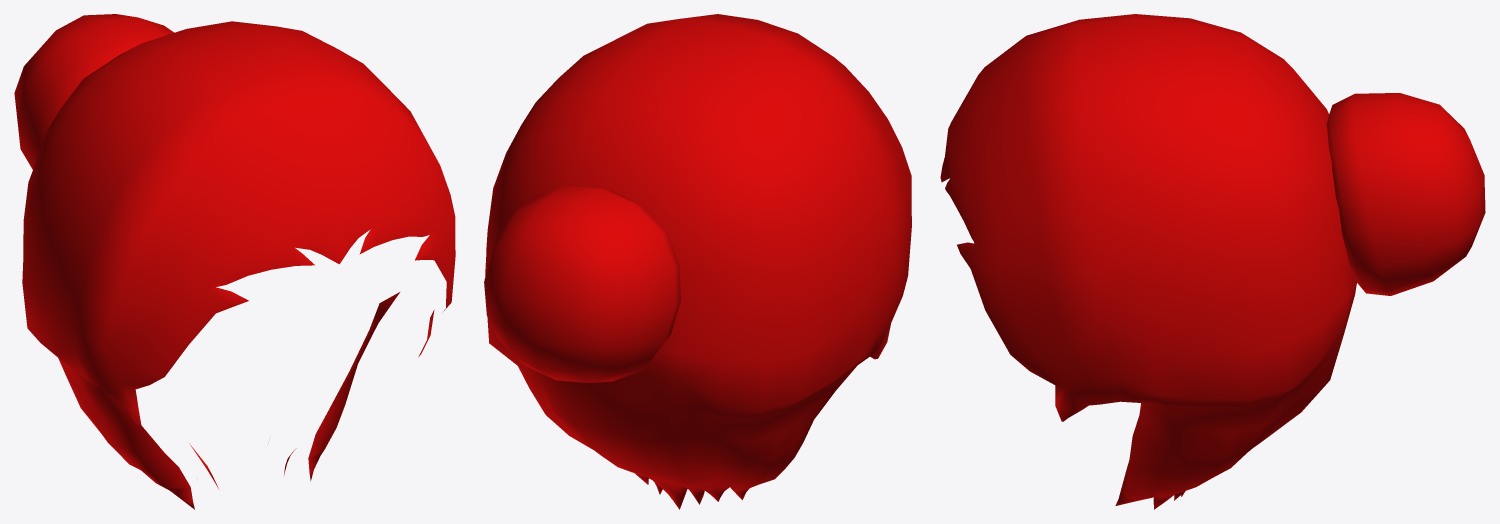
The model's file is HairBack_TiedBun.glb.
3 renders of one model, left to right at view 1: azimuth 30°, elevation 25°; view 2: azimuth 150°, elevation 25°; view 3: azimuth 270°, elevation 25°, orthographic.
Parts seen in each view (by area): view 1: HairBack_TiedBun; view 2: HairBack_TiedBun; view 3: HairBack_TiedBun.
Boxes of the visible parts, x1=… form: HairBack_TiedBun: x1=14, y1=14, x2=455, y2=509; HairBack_TiedBun: x1=484, y1=14, x2=911, y2=509; HairBack_TiedBun: x1=940, y1=14, x2=1485, y2=509.
Bounding box in the file's own units: 0.2227 × 0.2712 × 0.2932.
